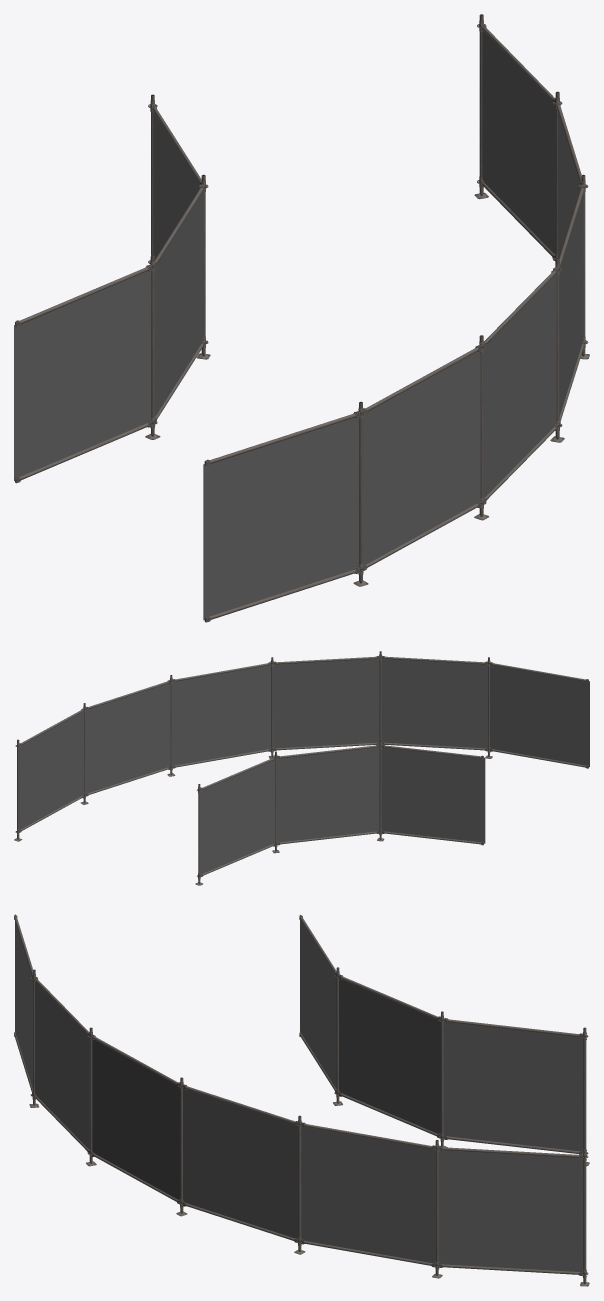
File: scaffold_foot_turnr_192x576.fbx
3 renders of one model, top to bottom at view 1: azimuth 30°, elevation 25°; view 2: azimuth 150°, elevation 25°; view 3: azimuth 270°, elevation 25°, orthographic. The views are drawn at different scales.
Parts seen in each view (by area): view 1: scaffold_foot_turnR_192x576; view 2: scaffold_foot_turnR_192x576; view 3: scaffold_foot_turnR_192x576.
Boxes of the visible parts, x1=… form: scaffold_foot_turnR_192x576: x1=14, y1=14, x2=589, y2=622; scaffold_foot_turnR_192x576: x1=14, y1=651, x2=589, y2=885; scaffold_foot_turnR_192x576: x1=14, y1=914, x2=589, y2=1286.
Bounding box in the file's own units: 775 × 202 × 776.
